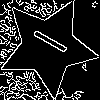I: (23, 22, 69, 56)
